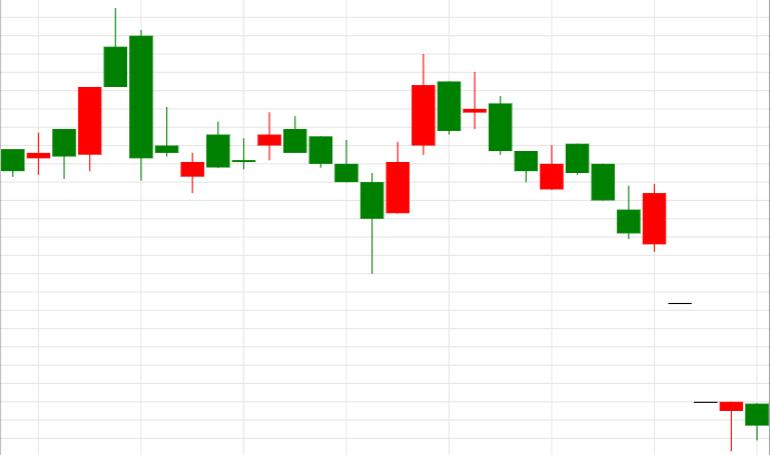hammer_rise: (257, 112, 383, 273)
